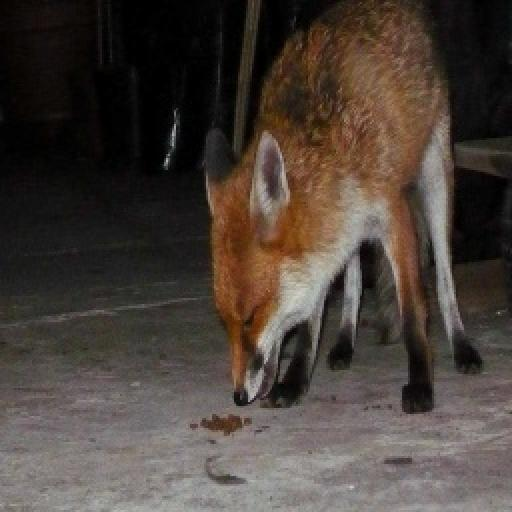zorro: (206, 0, 480, 410)
